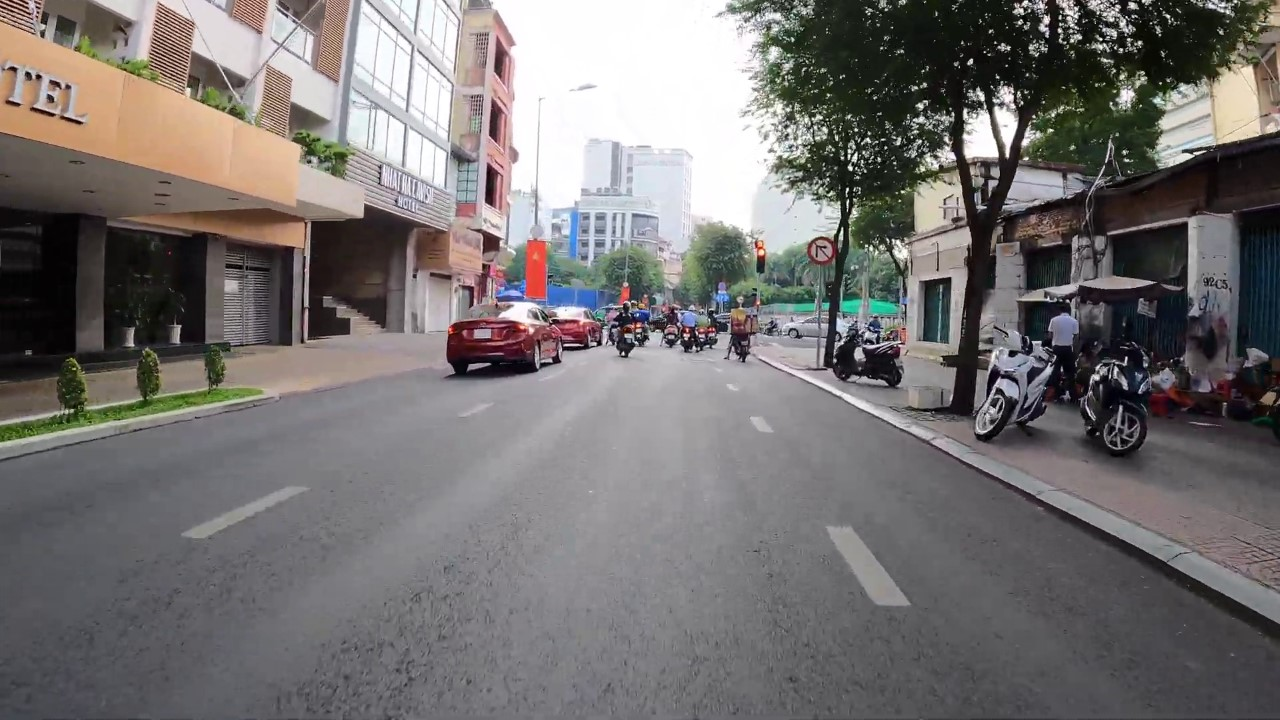cam_re_phai: (806, 235, 835, 266)
